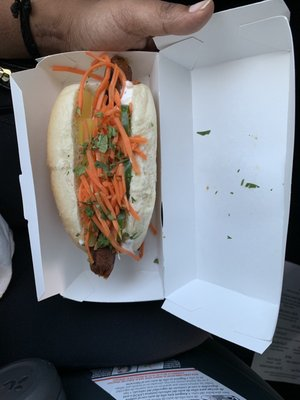burger: (45, 55, 159, 280)
